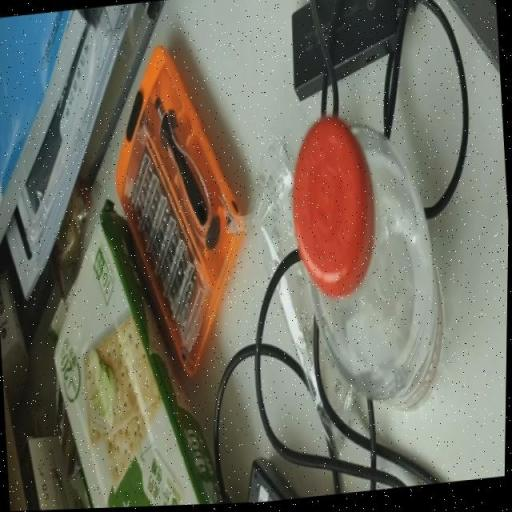plastic: (293, 119, 443, 411)
